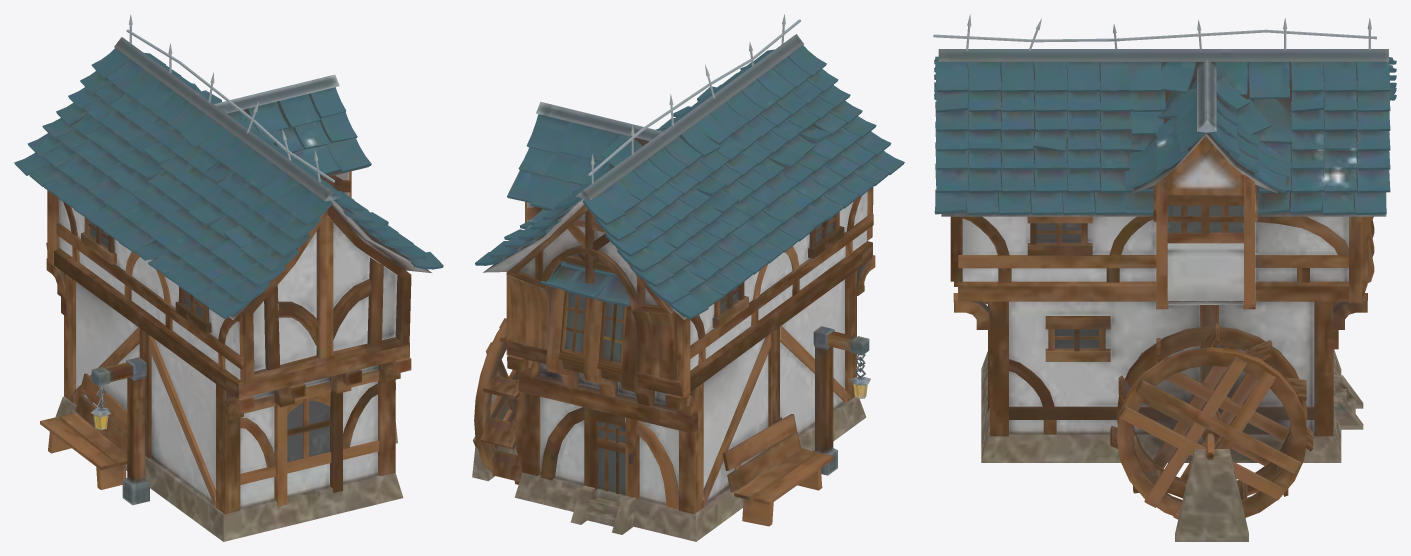
File: watermill.glb
The picture shows the model from 3 angles, left to right: view 1: azimuth 30°, elevation 25°; view 2: azimuth 150°, elevation 25°; view 3: azimuth 270°, elevation 25°; orthographic projection. The views are drawn at different scales.
Parts seen in each view (by area): view 1: mill_04_low, mill_08_low, mill_06_low, mill_07_low, mill_05_low, mill_01_low, mill_02_low, mill_09_low; view 2: mill_04_low, mill_08_low, mill_06_low, mill_07_low, mill_01_low, mill_09_low, mill_05_low, mill_02_low, mill_03_low, mill_10_low; view 3: mill_04_low, mill_08_low, mill_06_low, mill_07_low, mill_09_low, mill_03_low, mill_05_low, mill_01_low, mill_02_low, mill_10_low.
Part boxes in pixels (box(x1,y1,x2,y2)): mill_04_low: box(14, 48, 443, 318); mill_08_low: box(54, 125, 432, 541); mill_06_low: box(47, 29, 411, 514); mill_07_low: box(40, 37, 379, 484); mill_05_low: box(72, 217, 225, 506); mill_01_low: box(46, 175, 411, 467); mill_02_low: box(48, 14, 339, 489); mill_09_low: box(61, 93, 368, 436); mill_04_low: box(475, 45, 904, 319); mill_08_low: box(472, 125, 872, 541); mill_06_low: box(506, 19, 873, 514); mill_07_low: box(480, 34, 873, 526); mill_01_low: box(507, 196, 875, 509); mill_09_low: box(506, 137, 697, 435); mill_05_low: box(596, 212, 869, 506); mill_02_low: box(506, 14, 870, 534); mill_03_low: box(474, 319, 521, 471); mill_10_low: box(506, 286, 682, 396); mill_04_low: box(934, 56, 1396, 214); mill_08_low: box(941, 62, 1386, 541); mill_06_low: box(933, 29, 1376, 436); mill_07_low: box(938, 49, 1388, 519); mill_09_low: box(1132, 96, 1373, 459); mill_03_low: box(1116, 326, 1307, 517); mill_05_low: box(998, 195, 1309, 434); mill_01_low: box(953, 185, 1374, 427); mill_02_low: box(966, 14, 1371, 443); mill_10_low: box(1200, 280, 1367, 408).
Size of the model in its own units: 11.54 by 13.31 by 12.83.
Materials: 1 (1 with a texture image).
